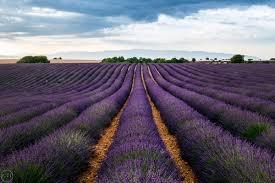field: (0, 63, 274, 181)
